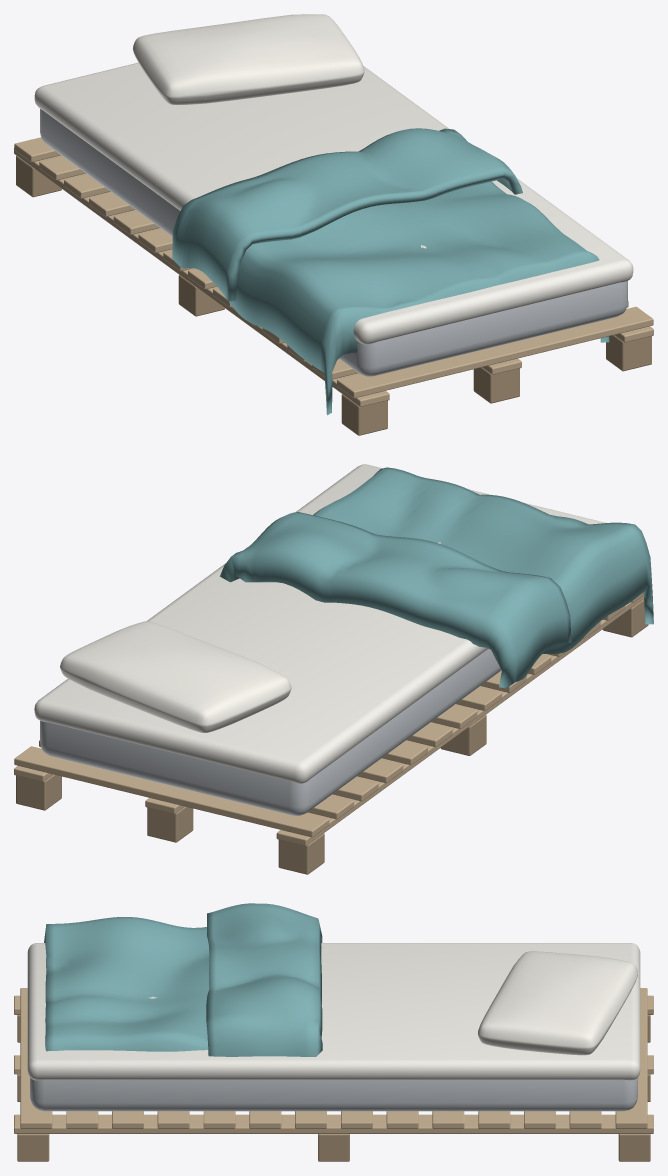
Rendered from bed_slept_in.fbx.
The picture shows the model from 3 angles, top to bottom: view 1: azimuth 30°, elevation 25°; view 2: azimuth 150°, elevation 25°; view 3: azimuth 270°, elevation 25°; orthographic projection. The views are drawn at different scales.
Parts seen in each view (by area): view 1: bed_slept_in; view 2: bed_slept_in; view 3: bed_slept_in.
Part boxes in pixels (left/top/right/bottom): bed_slept_in: left=14, top=14, right=653, bottom=435; bed_slept_in: left=14, top=464, right=653, bottom=874; bed_slept_in: left=14, top=903, right=653, bottom=1161.
Bounding box in the file's own units: 1.08 × 0.4638 × 2.
